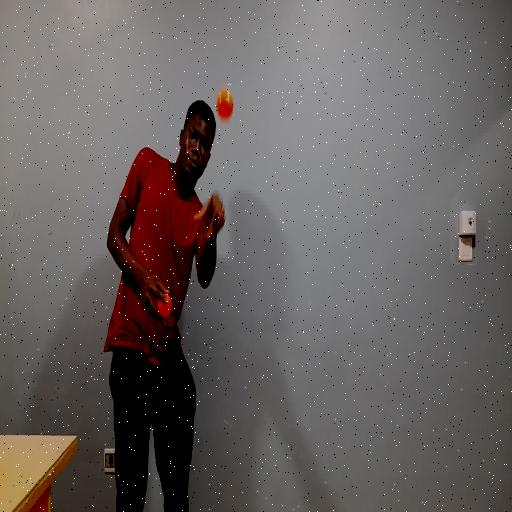plastic-ball: (215, 82, 236, 127)
